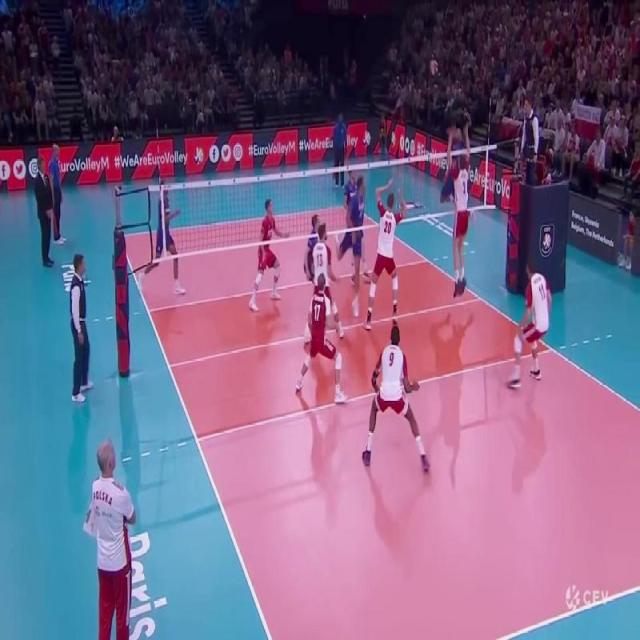volleyball: (430, 60, 438, 75)
